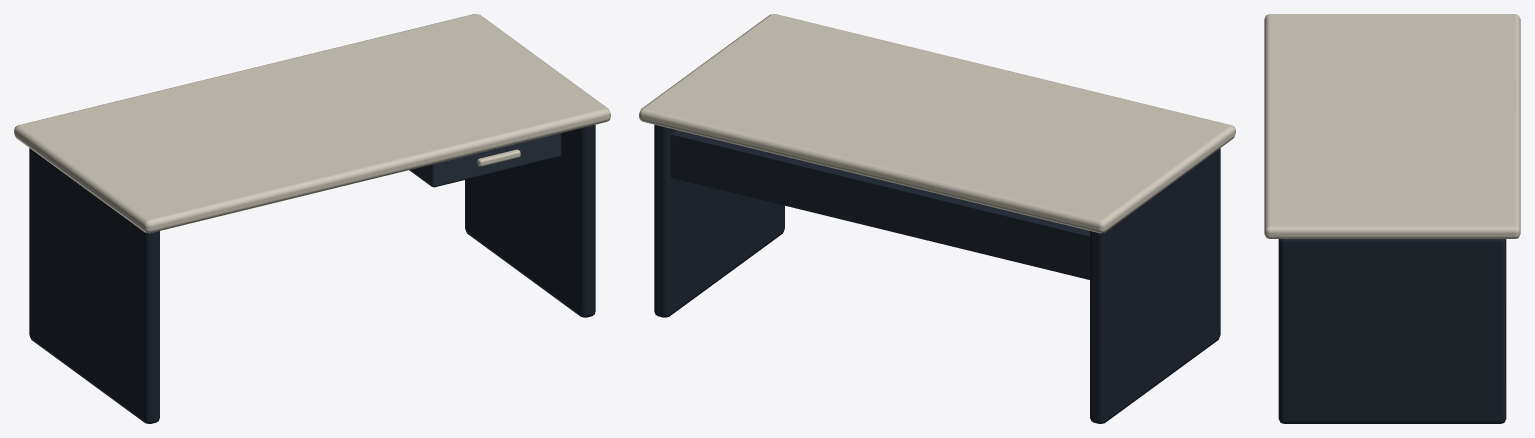
File: mesa.glb
The picture shows the model from 3 angles, left to right: view 1: azimuth 30°, elevation 25°; view 2: azimuth 150°, elevation 25°; view 3: azimuth 270°, elevation 25°; orthographic projection. The views are drawn at different scales.
Parts seen in each view (by area): view 1: mesa_malha; view 2: mesa_malha; view 3: mesa_malha.
Boxes of the visible parts, x1=… form: mesa_malha: x1=14, y1=14, x2=610, y2=423; mesa_malha: x1=639, y1=14, x2=1235, y2=423; mesa_malha: x1=1264, y1=14, x2=1520, y2=423.
Size of the model in its own units: 1.8 by 0.78 by 0.9.
